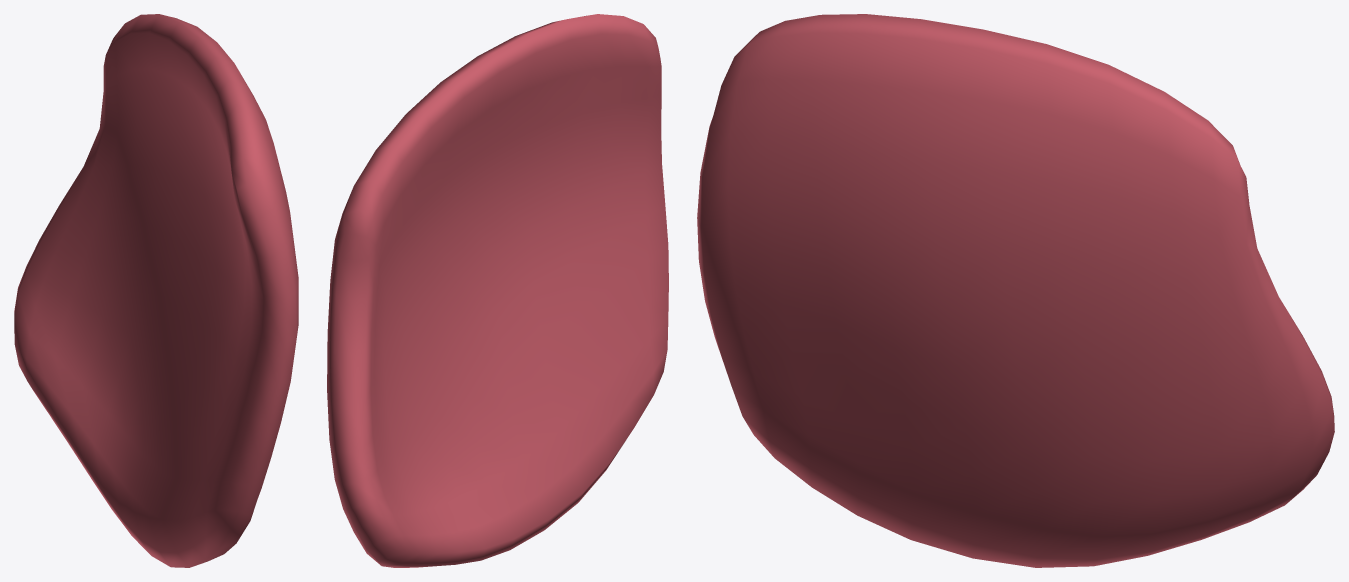
3 views of the same model, side by side, from view 1: azimuth 30°, elevation 25°; view 2: azimuth 150°, elevation 25°; view 3: azimuth 270°, elevation 25° (orthographic). The views are drawn at different scales.
Parts seen in each view (by area): view 1: 右侧内踝皮下囊; view 2: 右侧内踝皮下囊; view 3: 右侧内踝皮下囊.
Boxes of the visible parts, <box> form: 右侧内踝皮下囊: <box>14,14,298,567</box>; 右侧内踝皮下囊: <box>327,14,668,567</box>; 右侧内踝皮下囊: <box>697,14,1334,567</box>.
Size of the model in its own units: 0.0103 by 0.0332 by 0.0345.
